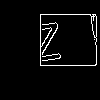Z: (28, 22, 65, 72)
